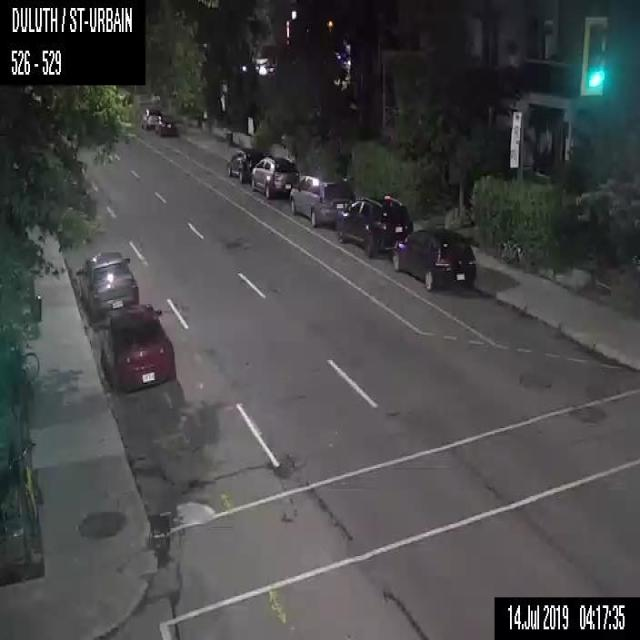vehicle: (98, 303, 176, 389), (392, 226, 477, 291), (337, 195, 413, 258), (77, 250, 139, 319), (288, 173, 356, 226), (250, 156, 299, 200), (226, 148, 266, 184), (155, 113, 176, 136), (140, 108, 162, 128)
